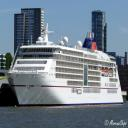cruises: (4, 26, 125, 110)
